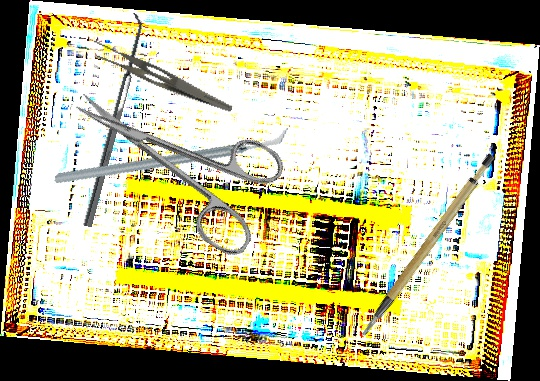Chopper: (54, 76, 291, 235)
Dressing Forceps: (86, 37, 239, 114)
Iris Scissors: (51, 49, 298, 262)
Scalpel Handle: (332, 149, 519, 340)
Spatula Surgical: (75, 12, 148, 228)
